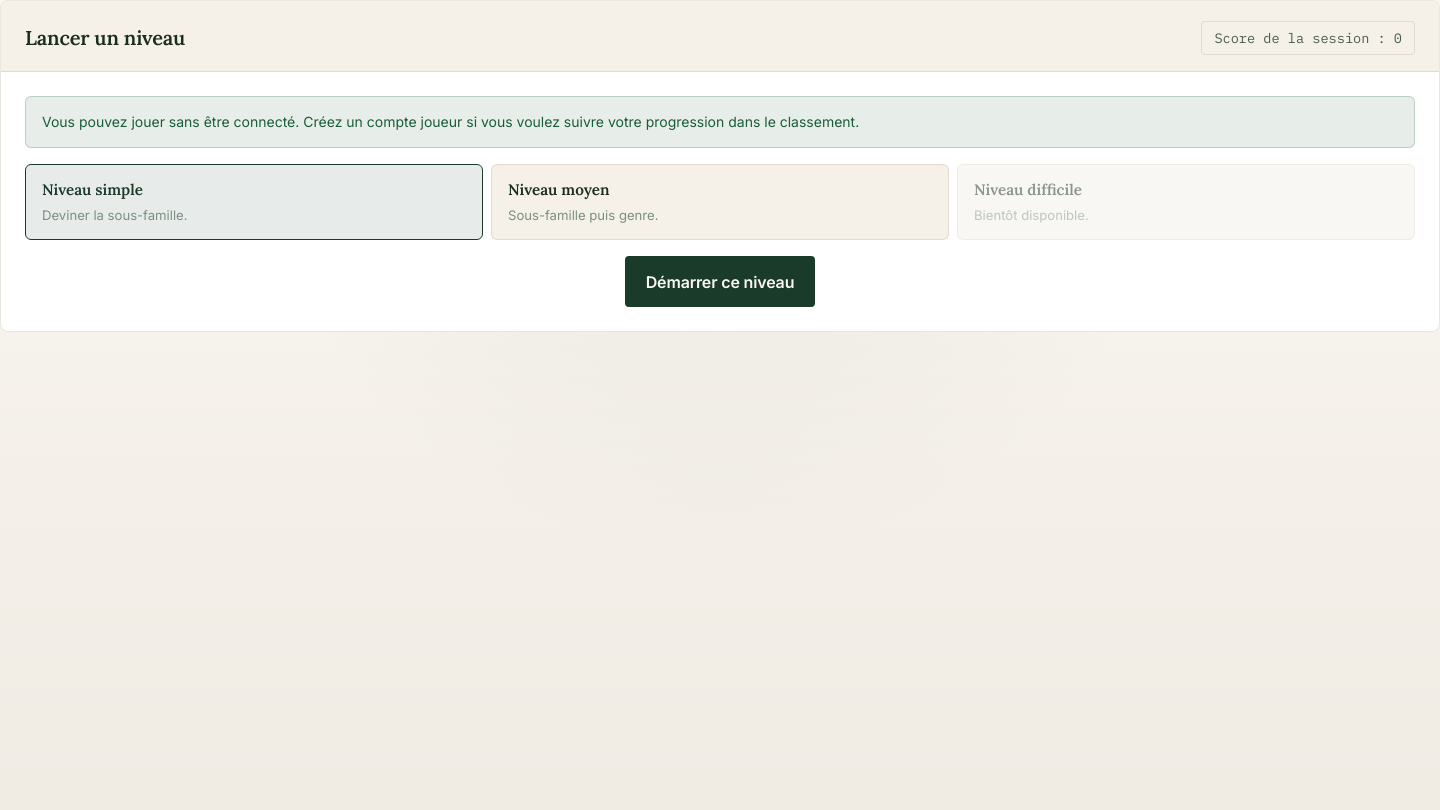
Test: GamePage › shows department name next to code
What coordinates should you click on to do the following:
click the button "Démarrer ce niveau"
I would click on:
 (720, 282)
Its box is [625,256,815,307].
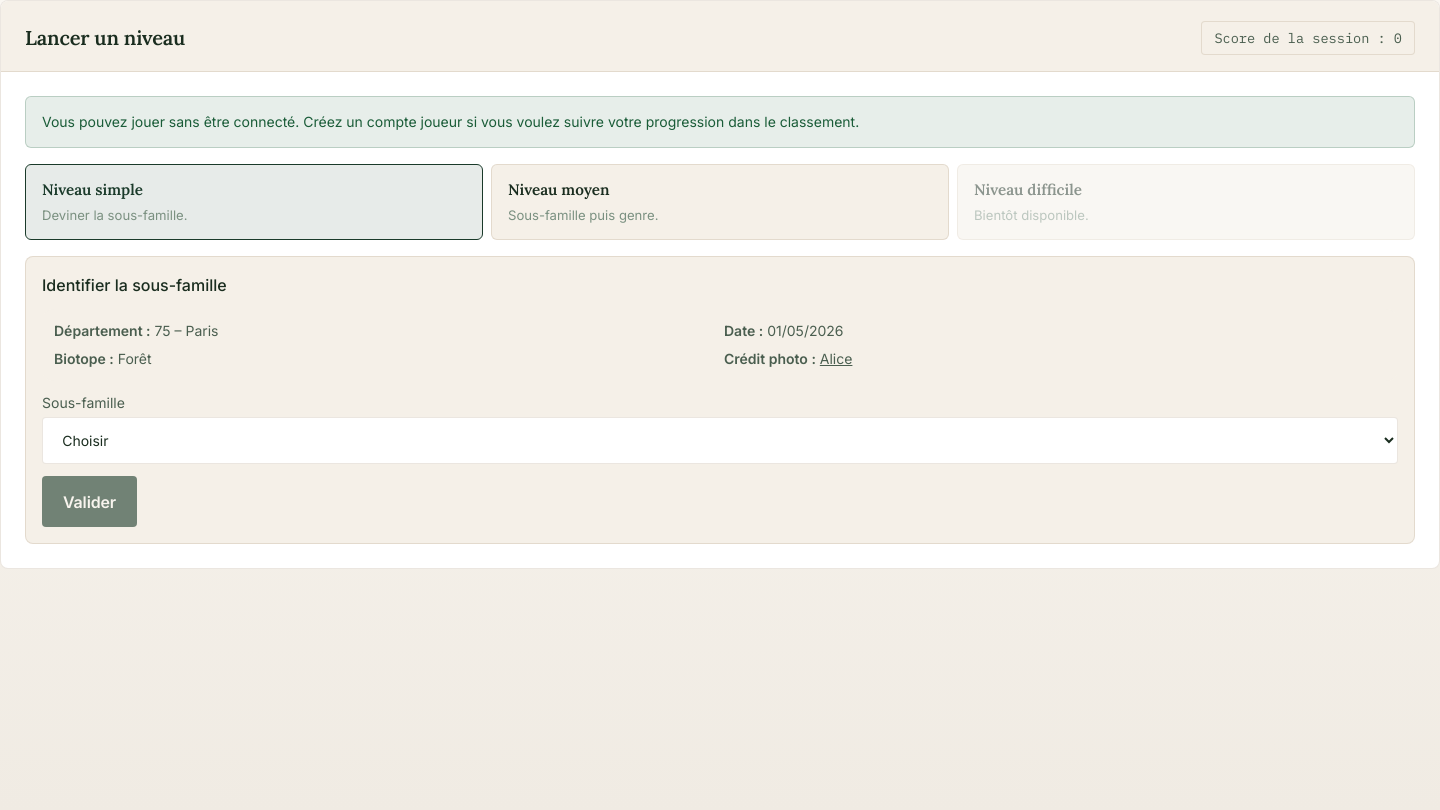
Now the text "Identifier la sous-famille" is shown, box [42,275,227,295]
Now the text "75 – Paris" is shown, box [154,322,218,339]
